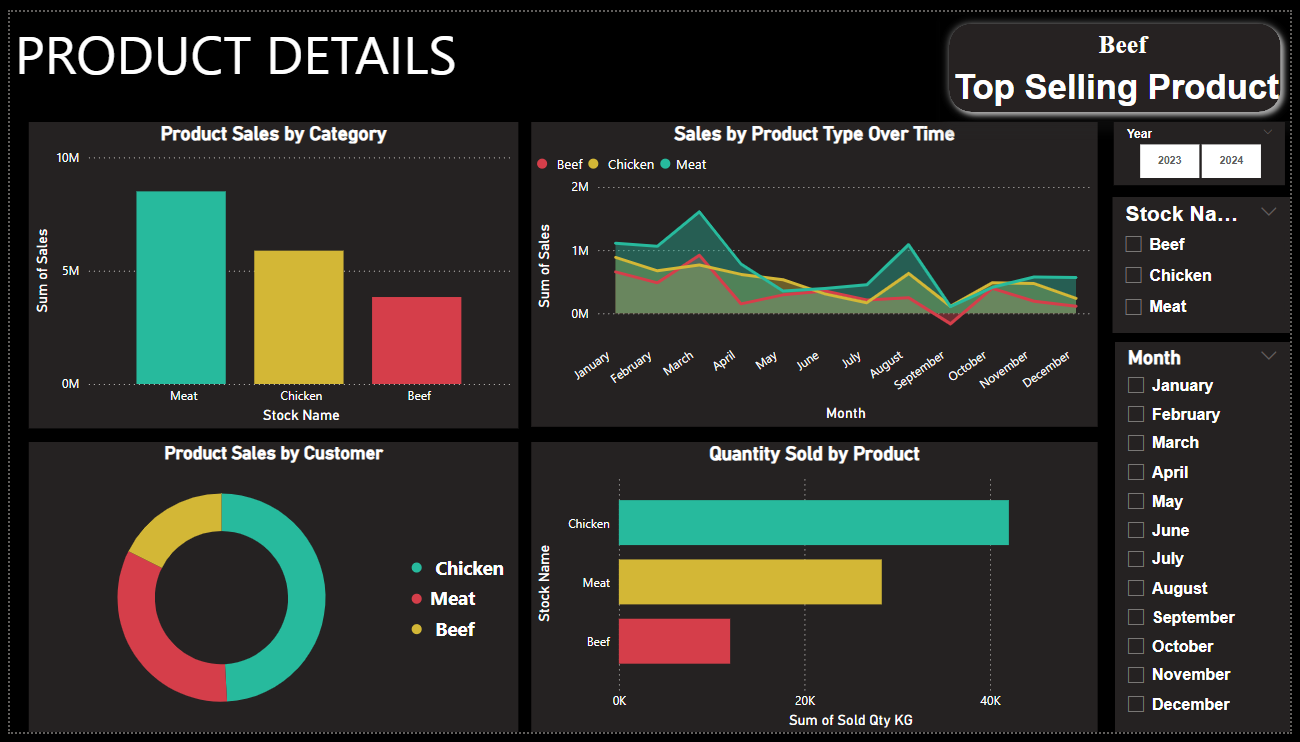

The dashboard page shown, as its layout file describes it:
{"tool":"powerbi","page":{"name":"Product Details","canvas":[1280,720],"ordinal":2},"visuals":[{"type":"textbox","box":[0,0,1280.3,81.9],"z":0},{"type":"columnChart","title":"Product Sales by Category","fields":{"Y":["Sum(Sheet1.Sales)"],"Category":["Sheet1.Stock Name"]},"box":[19.2,109.8,489.9,306],"z":1000},{"type":"areaChart","title":"Sales by Product Type Over Time","fields":{"Category":["Sheet1.Inv Date.Variation.Date Hierarchy.Month"],"Y":["Sum(Sheet1.Sales)"],"Series":["Sheet1.Stock Name"]},"box":[521.4,109.8,566.7,304.6],"z":2000},{"type":"shape","box":[930.6,2.4,349.7,106.4],"z":3000},{"type":"card","fields":{"Values":["Sheet1.Top Selling Product"]},"box":[939.1,2.4,335.1,97.8],"z":4000},{"type":"barChart","title":"Quantity Sold by Product","fields":{"Category":["Sheet1.Stock Name"],"Y":["Sum(Sheet1.Sold Qty KG)"]},"box":[521.4,429.5,566.7,290.9],"z":5000},{"type":"donutChart","title":"Product Sales by Customer","fields":{"Category":["Sheet1.Stock Name"],"Y":["CountNonNull(Sheet1.Main Customer Name)"]},"box":[19.2,429.5,489.9,290.9],"z":6000},{"type":"slicer","fields":{"Values":["Sheet1.Month.1"]},"box":[1105.1,329.9,174.9,390.1],"z":7000},{"type":"slicer","fields":{"Values":["Sheet1.Stock Name"]},"box":[1102.7,184.6,177.3,135.7],"z":8000},{"type":"slicer","fields":{"Values":["Sheet1.Year"]},"box":[1103.3,109.8,171.5,63.1],"z":9000}]}

Visuals, with their boxes in screenshot pixels (x1, y1, x2, y2), scaled from the page's 1280x720 canvas onto the 1300x742 screenshot:
textbox: crop(0, 0, 1299, 84)
"Product Sales by Category" columnChart: crop(20, 113, 517, 429)
"Sales by Product Type Over Time" areaChart: crop(530, 113, 1105, 427)
shape: crop(945, 2, 1299, 112)
card - Sheet1.Top Selling Product: crop(954, 2, 1294, 103)
"Quantity Sold by Product" barChart: crop(530, 443, 1105, 741)
"Product Sales by Customer" donutChart: crop(20, 443, 517, 741)
slicer - Sheet1.Month.1: crop(1122, 340, 1299, 741)
slicer - Sheet1.Stock Name: crop(1120, 190, 1299, 330)
slicer - Sheet1.Year: crop(1121, 113, 1295, 178)
